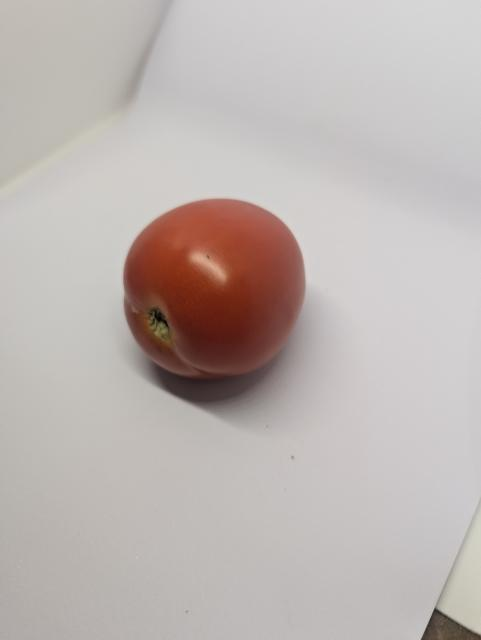red: (110, 188, 315, 395)
